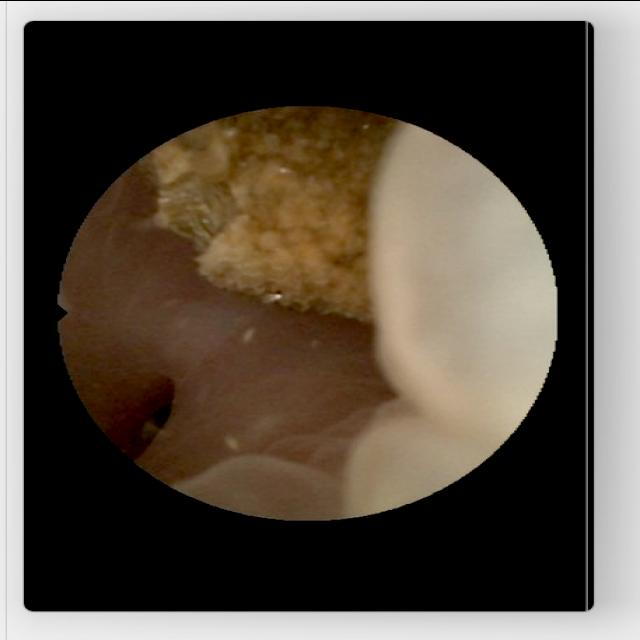stone: (154, 108, 390, 317)
